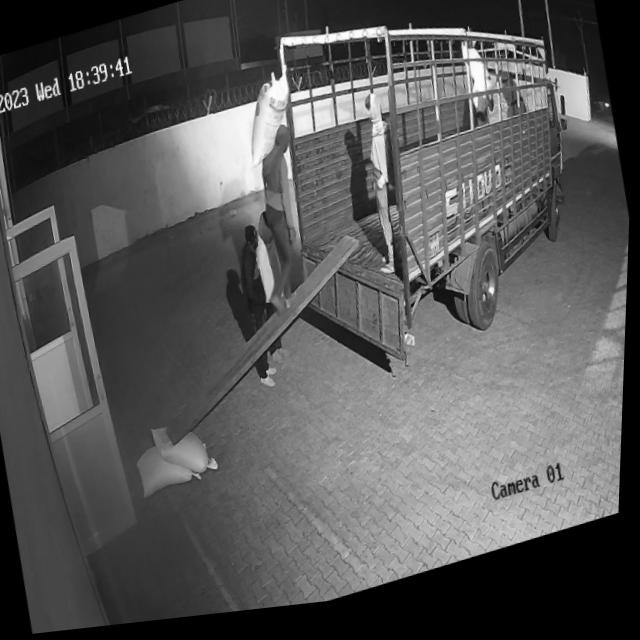sack: (238, 76, 304, 175), (153, 415, 216, 489), (137, 439, 204, 503)
